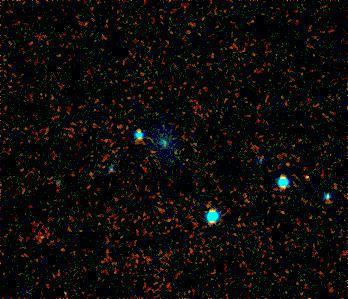star: (296, 162, 326, 192)
